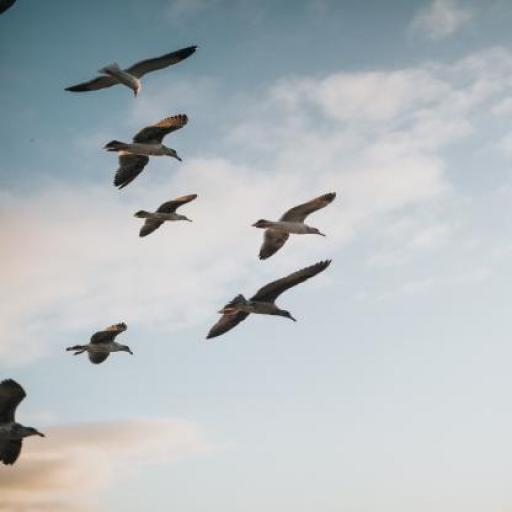bird: (206, 258, 332, 340), (64, 44, 198, 98), (104, 113, 190, 190), (251, 192, 336, 260), (0, 378, 47, 465), (67, 322, 134, 366), (134, 194, 198, 238)
